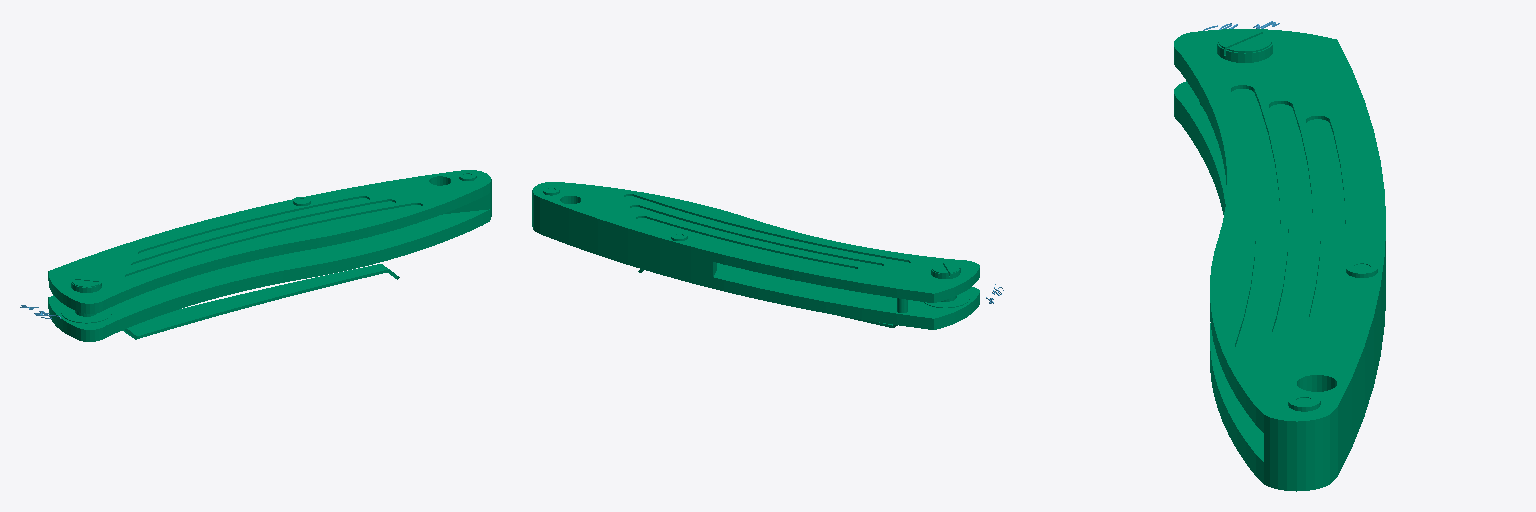
robot.urdf — partnet_19dff8164764e2a259f37b6e82c5e93:
<?xml version='1.0' encoding='utf-8'?>
<robot name="partnet_19dff8164764e2a259f37b6e82c5e93">
	<link name="base" />
	<link name="link_0">
		<visual name="rotation_blade_1">
			<origin xyz="-0.018325304002647536 -0.05592899999999945 -0.23479860949070552" />
			<geometry>
				<mesh filename="textured_objs_isaac/original_2.obj" />
			</geometry>
		</visual>
		<visual name="rotation_blade_1">
			<origin xyz="-0.018325304002647536 -0.05592899999999945 -0.23479860949070552" />
			<geometry>
				<mesh filename="textured_objs_isaac/original_3.obj" />
			</geometry>
		</visual>
		<visual name="rotation_blade_1">
			<origin xyz="-0.018325304002647536 -0.05592899999999945 -0.23479860949070552" />
			<geometry>
				<mesh filename="textured_objs_isaac/original_5.obj" />
			</geometry>
		</visual>
		<visual name="rotation_blade_1">
			<origin xyz="-0.018325304002647536 -0.05592899999999945 -0.23479860949070552" />
			<geometry>
				<mesh filename="textured_objs_isaac/original_7.obj" />
			</geometry>
		</visual>
		<visual name="rotation_blade_1">
			<origin xyz="-0.018325304002647536 -0.05592899999999945 -0.23479860949070552" />
			<geometry>
				<mesh filename="textured_objs_isaac/original_4.obj" />
			</geometry>
		</visual>
		<collision>
			<origin xyz="-0.018325304002647536 -0.05592899999999945 -0.23479860949070552" />
			<geometry>
				<mesh filename="textured_objs_isaac/original_2.obj" />
			</geometry>
		</collision>
		<collision>
			<origin xyz="-0.018325304002647536 -0.05592899999999945 -0.23479860949070552" />
			<geometry>
				<mesh filename="textured_objs_isaac/original_3.obj" />
			</geometry>
		</collision>
		<collision>
			<origin xyz="-0.018325304002647536 -0.05592899999999945 -0.23479860949070552" />
			<geometry>
				<mesh filename="textured_objs_isaac/original_5.obj" />
			</geometry>
		</collision>
		<collision>
			<origin xyz="-0.018325304002647536 -0.05592899999999945 -0.23479860949070552" />
			<geometry>
				<mesh filename="textured_objs_isaac/original_7.obj" />
			</geometry>
		</collision>
		<collision>
			<origin xyz="-0.018325304002647536 -0.05592899999999945 -0.23479860949070552" />
			<geometry>
				<mesh filename="textured_objs_isaac/original_4.obj" />
			</geometry>
		</collision>
	</link>
	<joint name="joint_0" type="revolute">
		<origin xyz="0.018325304002647536 0.05592899999999945 0.23479860949070552" />
		<axis xyz="0 -1 0" />
		<child link="link_0" />
		<parent link="link_1" />
		<limit lower="-2.9216811678385075" upper="-0.0" />
	</joint>
	<link name="link_1">
		<visual name="base_body_2">
			<origin xyz="0 0 0" />
			<geometry>
				<mesh filename="textured_objs_isaac/original_6.obj" />
			</geometry>
		</visual>
		<collision>
			<origin xyz="0 0 0" />
			<geometry>
				<mesh filename="textured_objs_isaac/original_6.obj" />
			</geometry>
		</collision>
	</link>
	<joint name="joint_1" type="fixed">
		<origin rpy="1.570796326794897 0 -1.570796326794897" xyz="0 0 0" />
		<child link="link_1" />
		<parent link="base" />
	</joint>
</robot>

--- What the picture shows (computed from the rendered views, not written in the file) ---
The picture shows the robot from 3 angles, left to right: view 1: azimuth 30°, elevation 25°; view 2: azimuth 150°, elevation 25°; view 3: azimuth 270°, elevation 25°; orthographic projection.
Model partnet_19dff8164764e2a259f37b6e82c5e93 with 3 links and 2 joints (1 revolute, 1 fixed), rooted at base, posed all joints at 0.
Links seen in each view (by area): view 1: link_1; view 2: link_1; view 3: link_1.
Link boxes in pixels (<box>): link_1: <box>48,170,491,341</box>; link_1: <box>532,182,979,329</box>; link_1: <box>1174,29,1385,491</box>.
Size in the robot's own frame: 1.02 by 0.2169 by 0.1623 metres.
Meshes: 6 distinct files referenced, 4 mesh visuals loaded (4 OBJ); not drawn: 2 (reference not matched to a file when rendering).
